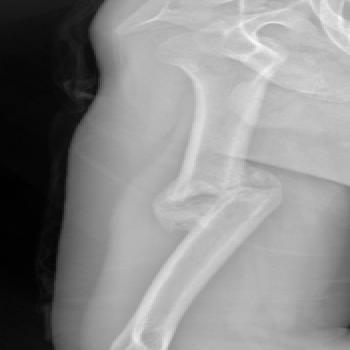Fracture: (140, 169, 310, 223)
